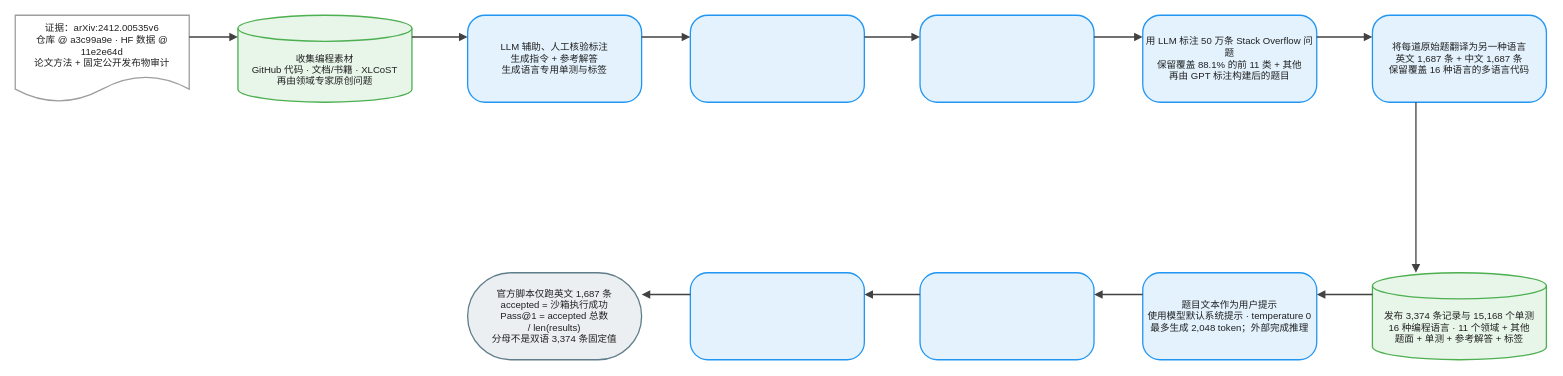
The diagram is 1563 pixels wide and 376 high, and some of its shapes have lost their labels. Here are the shapes that lost their labels. From the top down, the box of each, then its label:
(689, 14, 865, 102): 评估难度、歧义与可解性 交换题目做交叉精炼 以共识或资深标注员裁决分歧
(919, 14, 1094, 102): 六模型投票；全部答对项删除 1 个答对 = 难 · 5 个答对 = 易 2–4 个答对 = 中
(689, 272, 865, 360): Java：拆分全部类/枚举/接口 写入同名文件并运行 JUnit 其他语言：拼接预定义单测 按执行语言带依赖运行
(919, 272, 1094, 360): 非 Java 提取优先级 完整围栏代码块 > 不完整围栏 > 启发式；先取目标语言
